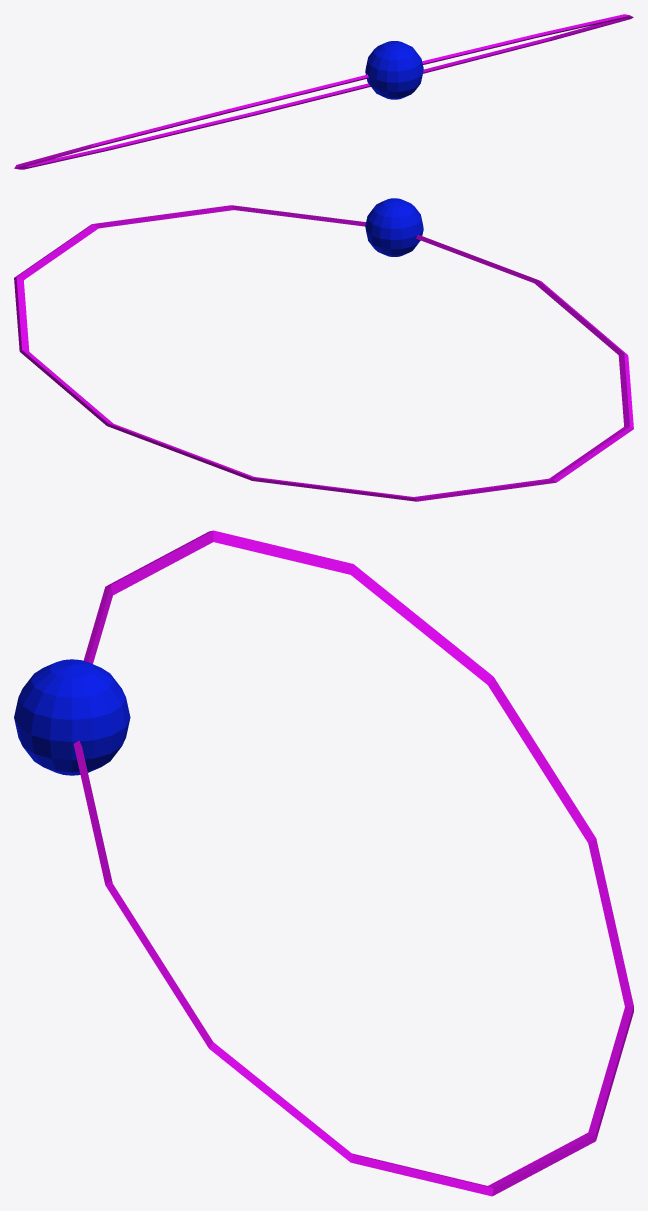
The model's file is Venus.fbx.
3 renders of one model, top to bottom at view 1: azimuth 30°, elevation 25°; view 2: azimuth 150°, elevation 25°; view 3: azimuth 270°, elevation 25°, orthographic. The views are drawn at different scales.
Visible parts, largest first — view 1: 2.-VenusOrbit, 2.-Venus; view 2: 2.-VenusOrbit, 2.-Venus; view 3: 2.-VenusOrbit, 2.-Venus.
Part boxes in pixels (<box>): 2.-VenusOrbit: <box>14,14,633,169</box>; 2.-Venus: <box>365,41,423,99</box>; 2.-VenusOrbit: <box>14,205,633,501</box>; 2.-Venus: <box>365,198,423,256</box>; 2.-VenusOrbit: <box>73,530,633,1196</box>; 2.-Venus: <box>14,659,130,775</box>.
Size of the model in its own units: 129 by 35.1 by 56.82.
